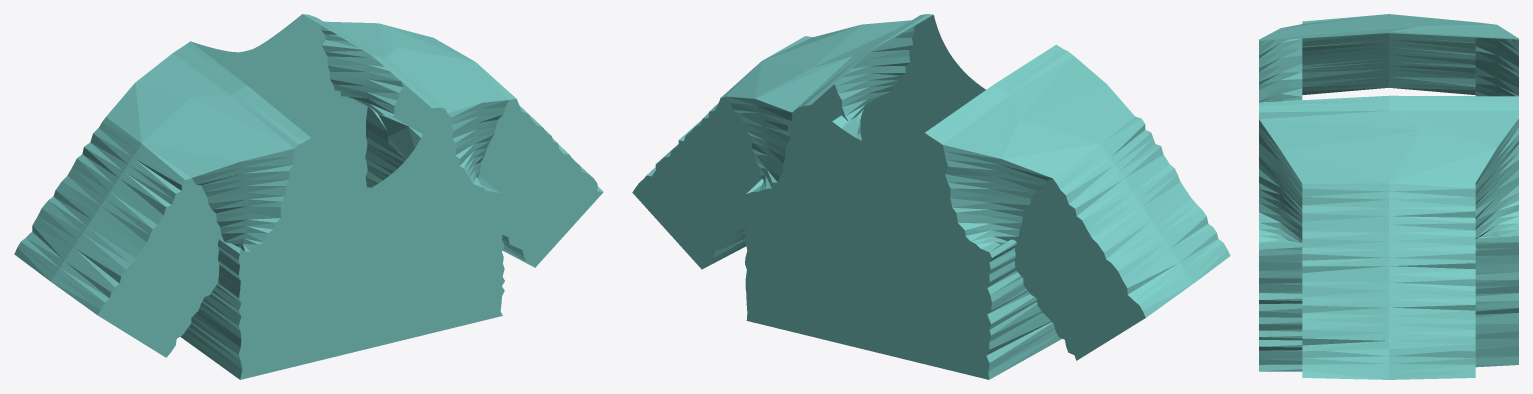
The model's file is garment-initial.glb.
3 views of the same model, side by side, from view 1: azimuth 30°, elevation 25°; view 2: azimuth 150°, elevation 25°; view 3: azimuth 270°, elevation 25° (orthographic). The views are drawn at different scales.
Parts seen in each view (by area): view 1: geometry_0; view 2: geometry_0; view 3: geometry_0.
Part boxes in pixels (left/top/right/bottom): geometry_0: left=14, top=14, right=603, bottom=379; geometry_0: left=632, top=14, right=1230, bottom=379; geometry_0: left=1259, top=14, right=1518, bottom=379.
Bounding box in the file's own units: 1.07 × 0.4599 × 0.45.
